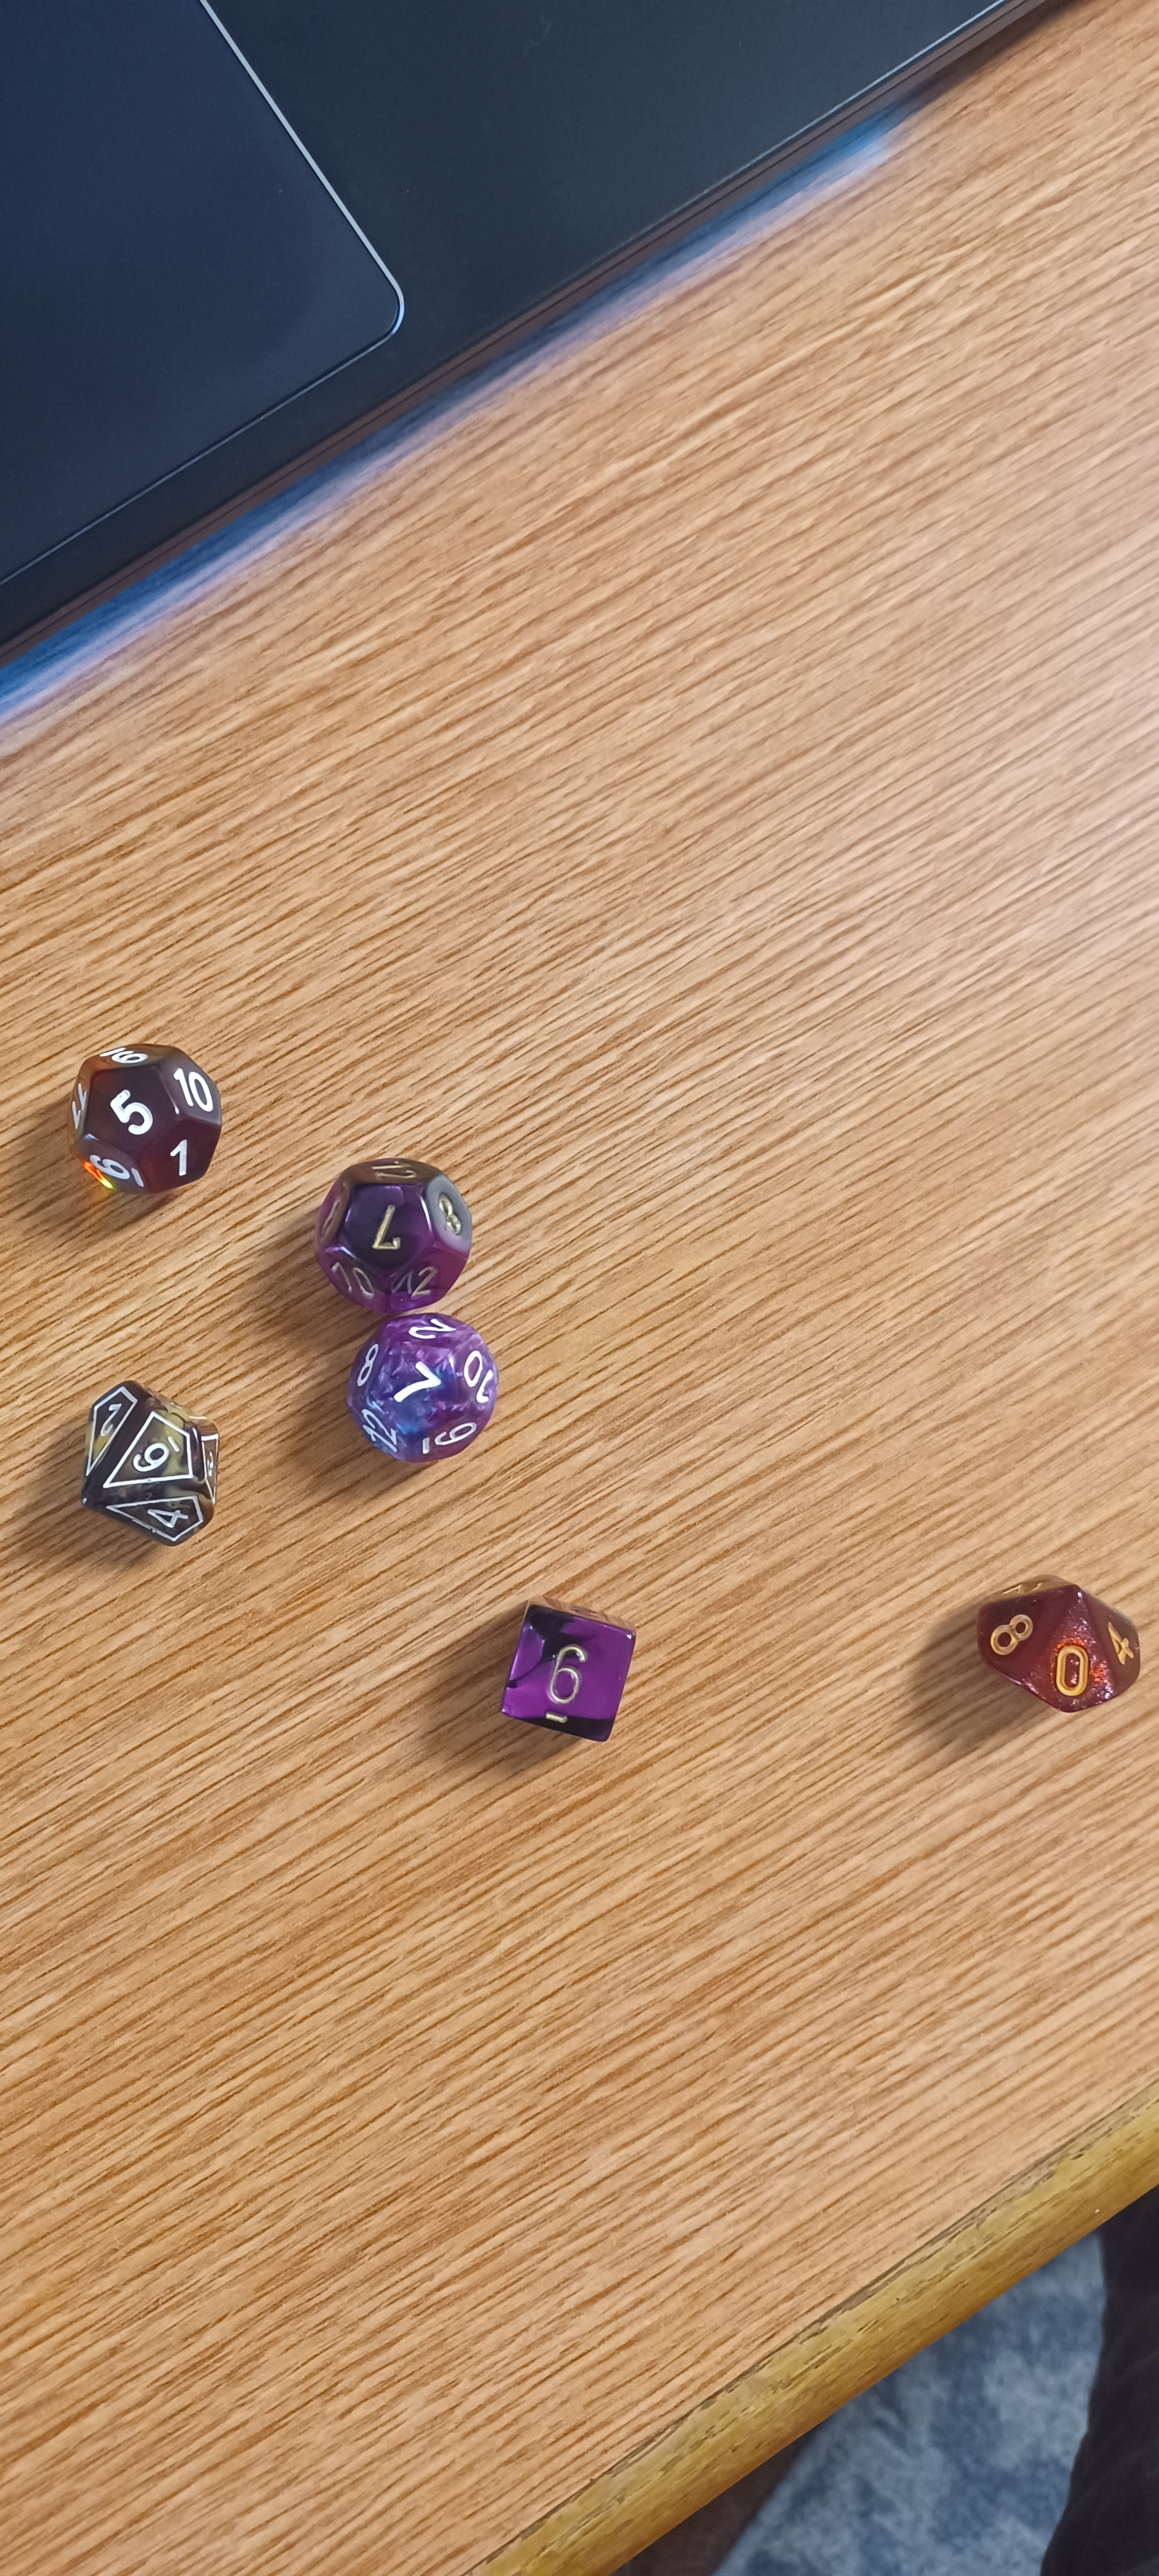five: (43, 1023, 240, 1206)
seven: (297, 1309, 530, 1495), (300, 1135, 511, 1329)
six: (38, 1354, 256, 1584), (466, 1579, 662, 1771)
zero: (947, 1551, 1159, 1741)
